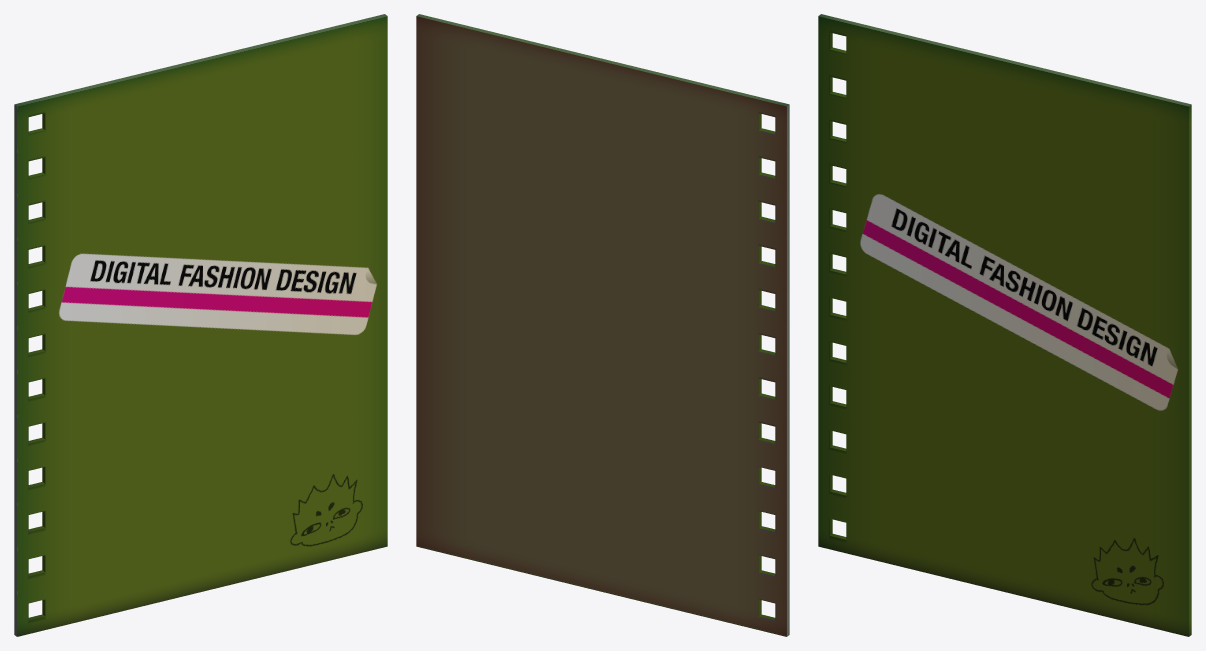
Rendered from dfd_001.glb.
The picture shows the model from 3 angles, left to right: view 1: azimuth 30°, elevation 25°; view 2: azimuth 150°, elevation 25°; view 3: azimuth 330°, elevation 25°; orthographic projection.
Visible parts, largest first — view 1: book_front; view 2: book_front; view 3: book_front.
Part boxes in pixels (x1,y1,x2,y2): book_front: (14,14,387,636); book_front: (416,14,789,636); book_front: (818,14,1191,636).
Size of the model in its own units: 1.47 by 2 by 0.0197.
Materials: 1 (1 with a texture image).
